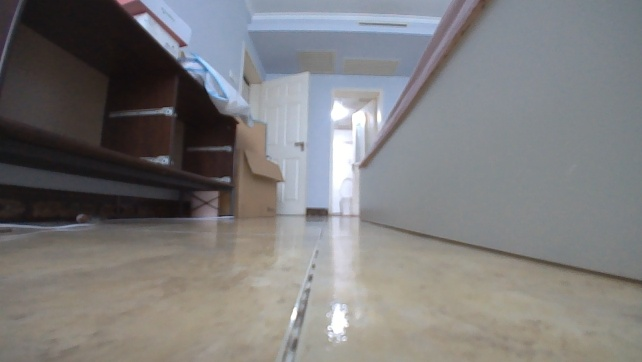bed1: (355, 0, 641, 286)
door_anno: (247, 69, 309, 222)
wire: (0, 215, 100, 230)
